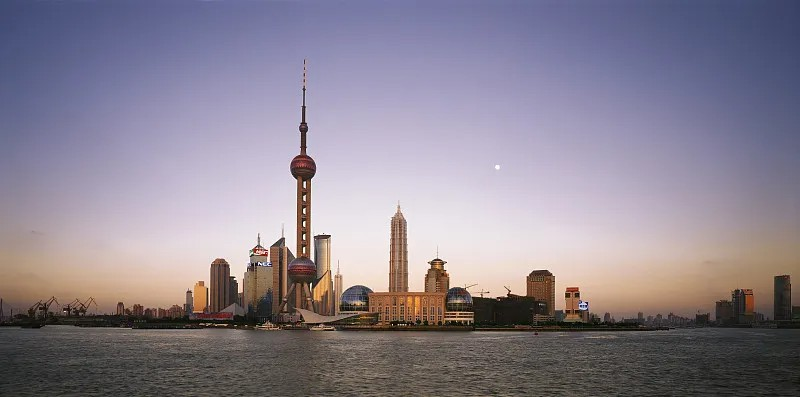Oriental: (276, 60, 318, 315)
